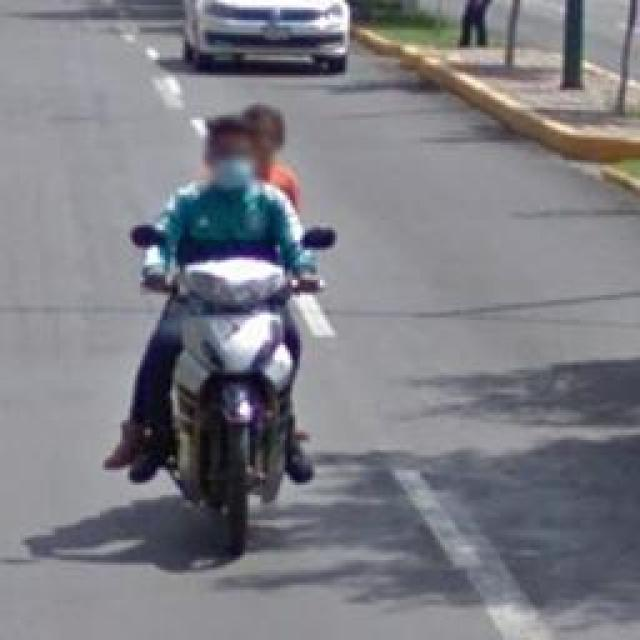car: (168, 0, 356, 78)
motorbike: (95, 100, 342, 558)
